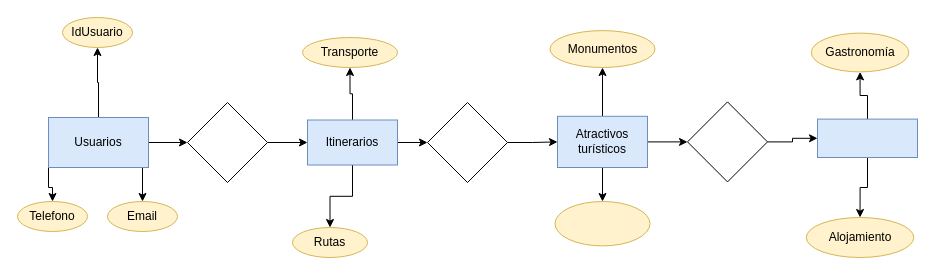
Some shapes in this 935 by 275 pixel diagram are drawn without their labels. Each missing label, with the box of its shape:
busca: (186, 102, 268, 182)
Departamentos: (816, 118, 918, 158)
Excursiones: (554, 200, 650, 246)
ofrecen: (426, 102, 508, 182)
pertenecen: (686, 101, 768, 182)
